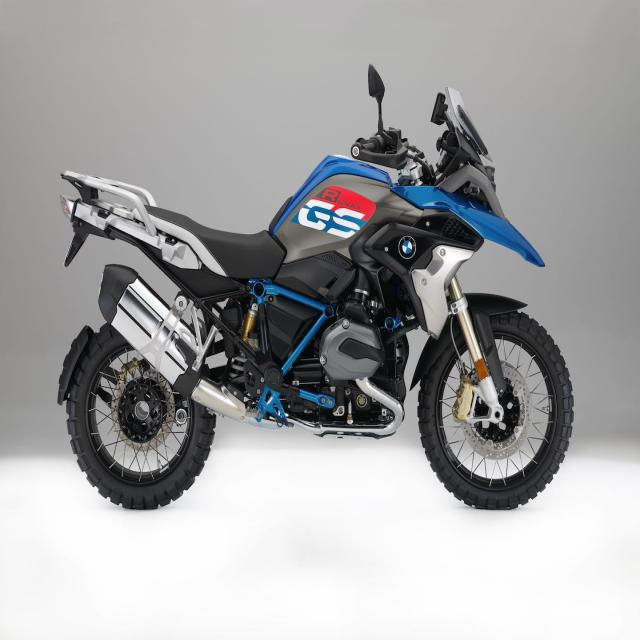Motorcycle: (57, 66, 575, 509)
